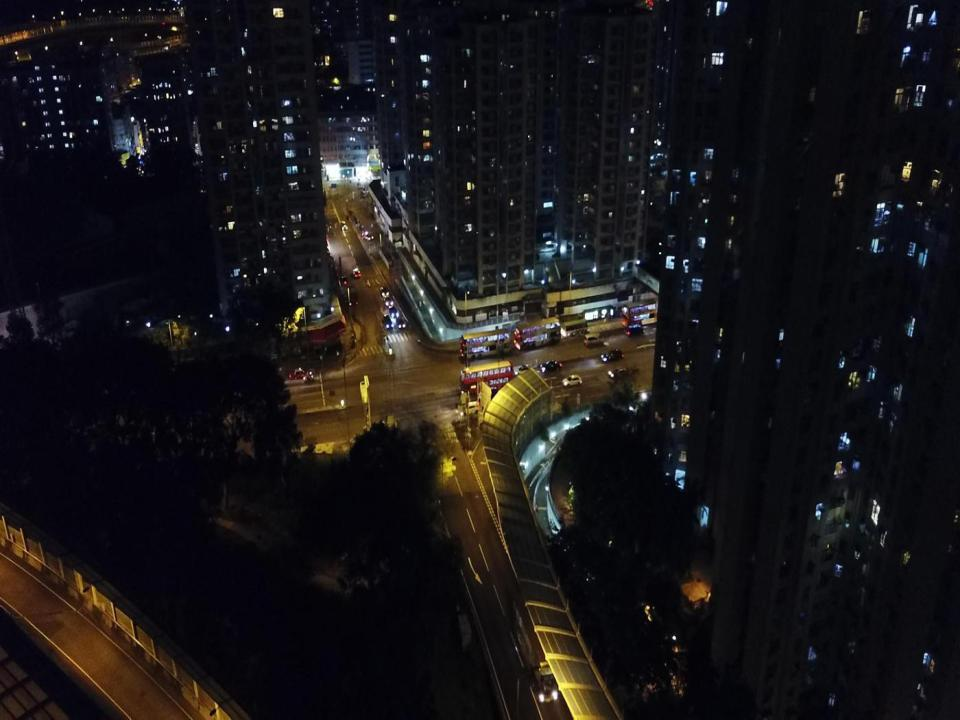bus: (460, 358, 515, 396), (460, 326, 512, 362), (513, 316, 562, 352), (560, 317, 589, 338)
car: (537, 359, 563, 375), (600, 348, 624, 364), (608, 365, 632, 380), (583, 332, 605, 347), (512, 364, 534, 378), (561, 373, 583, 387), (624, 323, 646, 336), (288, 367, 310, 380), (382, 313, 394, 331), (382, 294, 394, 308), (396, 315, 406, 331), (388, 305, 400, 318), (338, 274, 350, 286), (379, 286, 390, 298), (351, 266, 361, 278), (340, 219, 349, 231)
truck: (510, 596, 559, 704), (620, 296, 664, 330)
van: (348, 286, 359, 306)
